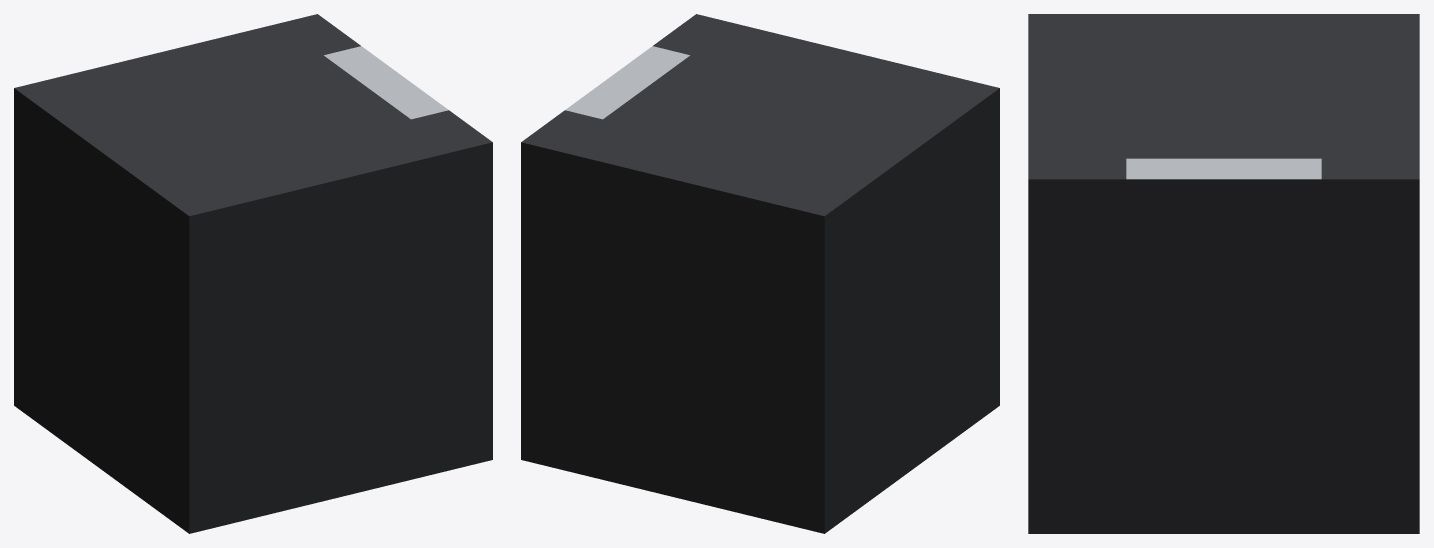
File: Road_Bottom.glb
3 renders of one model, left to right at view 1: azimuth 30°, elevation 25°; view 2: azimuth 150°, elevation 25°; view 3: azimuth 270°, elevation 25°, orthographic. The views are drawn at different scales.
Parts seen in each view (by area): view 1: Cube.004; view 2: Cube.004; view 3: Cube.004.
Boxes of the visible parts, x1,y1,x2,y2 form: Cube.004: (14, 14, 492, 533); Cube.004: (521, 14, 999, 533); Cube.004: (1028, 14, 1419, 533).
Bounding box in the file's own units: 2 × 2 × 2.
1 material, 1 textured.
